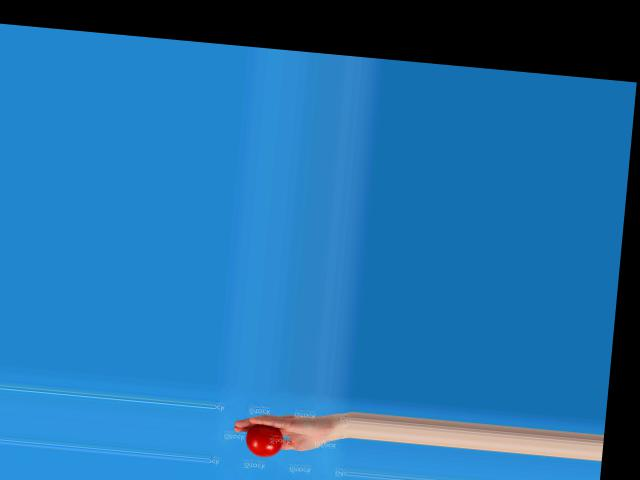tomato: (244, 423, 284, 457)
